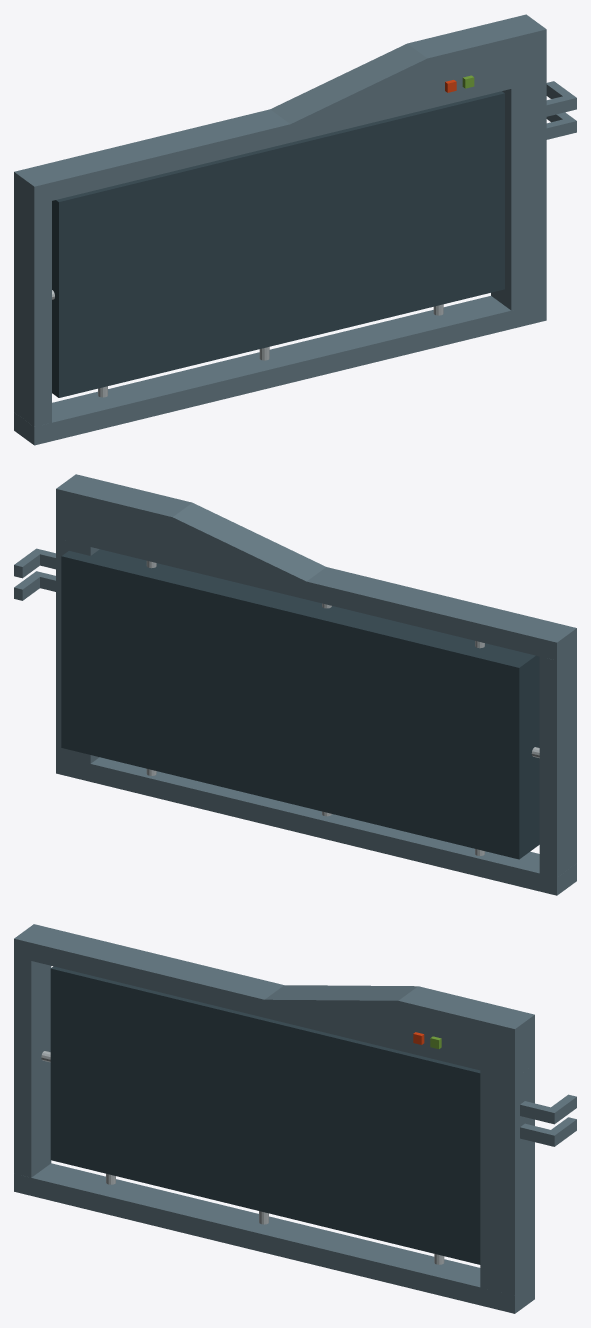
3 views of the same model, one above another, from view 1: azimuth 30°, elevation 25°; view 2: azimuth 150°, elevation 25°; view 3: azimuth 330°, elevation 25° (orthographic). The views are drawn at different scales.
Parts seen in each view (by area): view 1: node_MeshObject-514592768-PolyPaper21; view 2: node_MeshObject-514592768-PolyPaper21; view 3: node_MeshObject-514592768-PolyPaper21.
Part boxes in pixels (<box>): node_MeshObject-514592768-PolyPaper21: <box>14,14,576,445</box>; node_MeshObject-514592768-PolyPaper21: <box>14,474,576,895</box>; node_MeshObject-514592768-PolyPaper21: <box>14,924,576,1313</box>.
Size of the model in its own units: 1.24 by 0.6299 by 0.1201.
